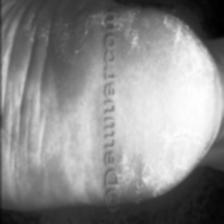Non-Cancerous Skin Condition: (25, 9, 87, 62), (117, 149, 155, 193), (115, 10, 137, 46)
